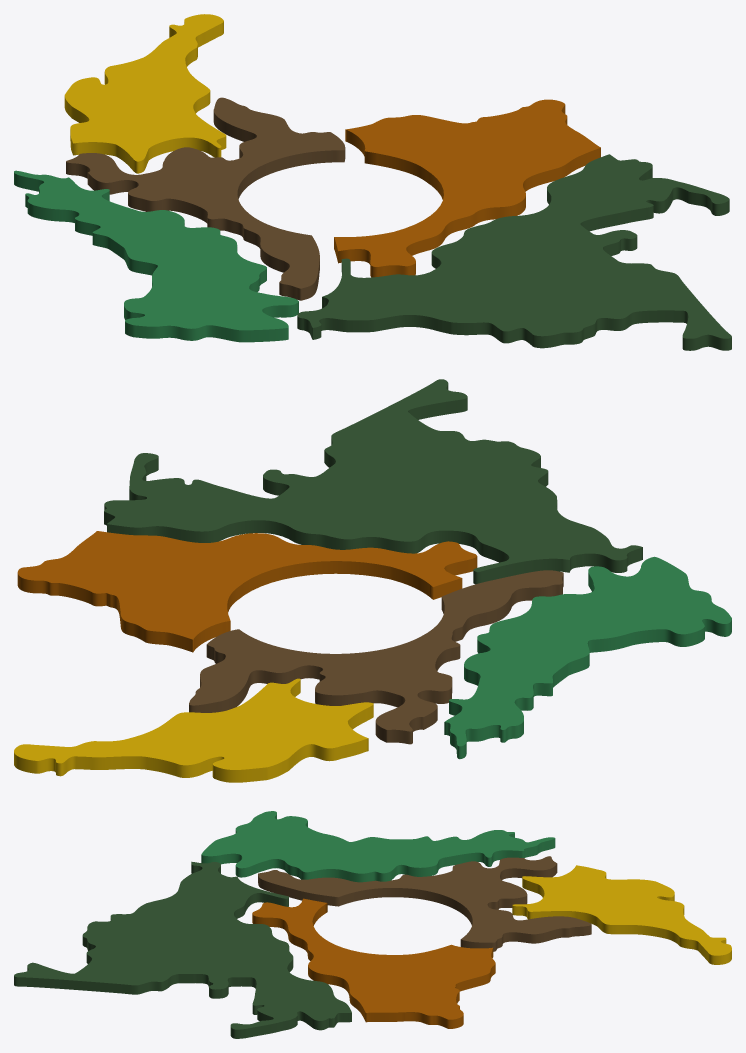
Rendered from Regiones juntas.fbx.
3 views of the same model, one above another, from view 1: azimuth 30°, elevation 25°; view 2: azimuth 150°, elevation 25°; view 3: azimuth 270°, elevation 25° (orthographic). The views are drawn at different scales.
Visible parts, largest first — view 1: Malla Amazonas; view 2: Malla Amazonas; view 3: Malla Amazonas.
Boxes of the visible parts, x1=… form: Malla Amazonas: x1=14, y1=14, x2=731, y2=350; Malla Amazonas: x1=14, y1=379, x2=731, y2=782; Malla Amazonas: x1=14, y1=811, x2=731, y2=1038.
Bounding box in the file's own units: 2570 × 50.96 × 3568.
